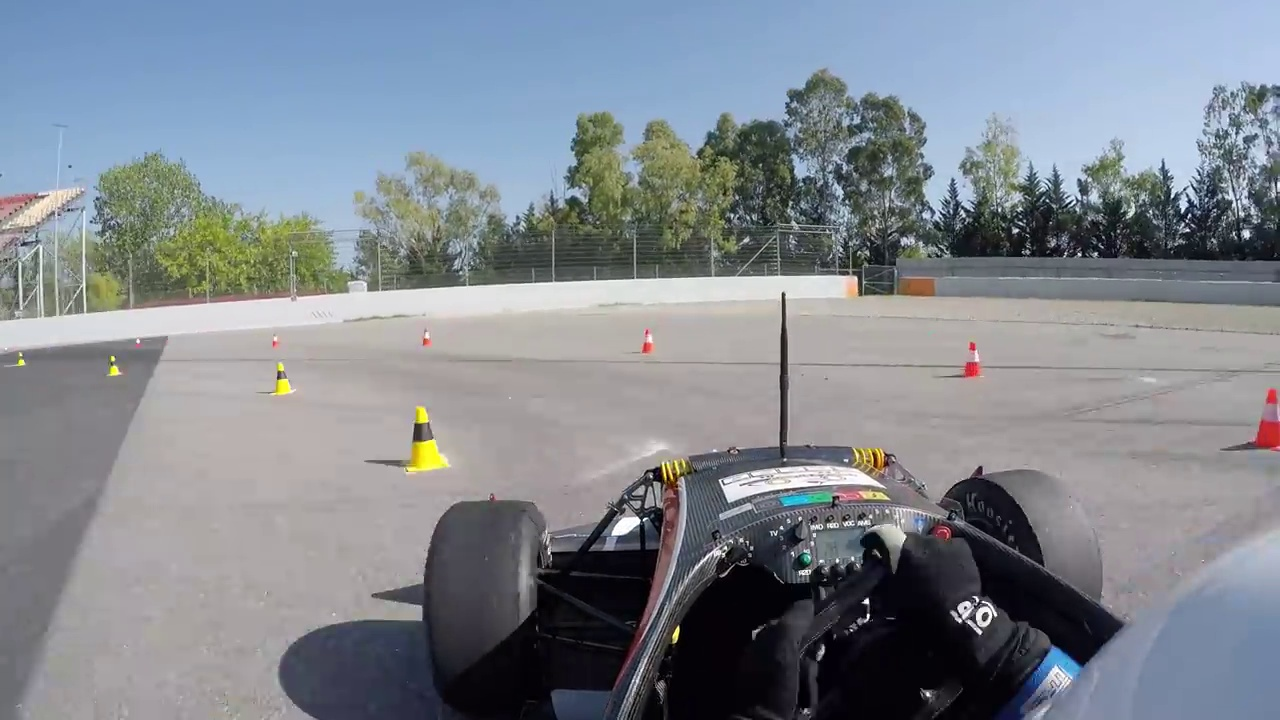Cone: (407, 402, 452, 476), (1253, 385, 1280, 449), (958, 339, 986, 376), (272, 362, 298, 395)
